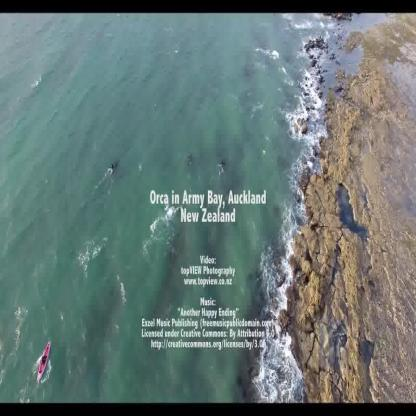Boat: (34, 340, 60, 385)
